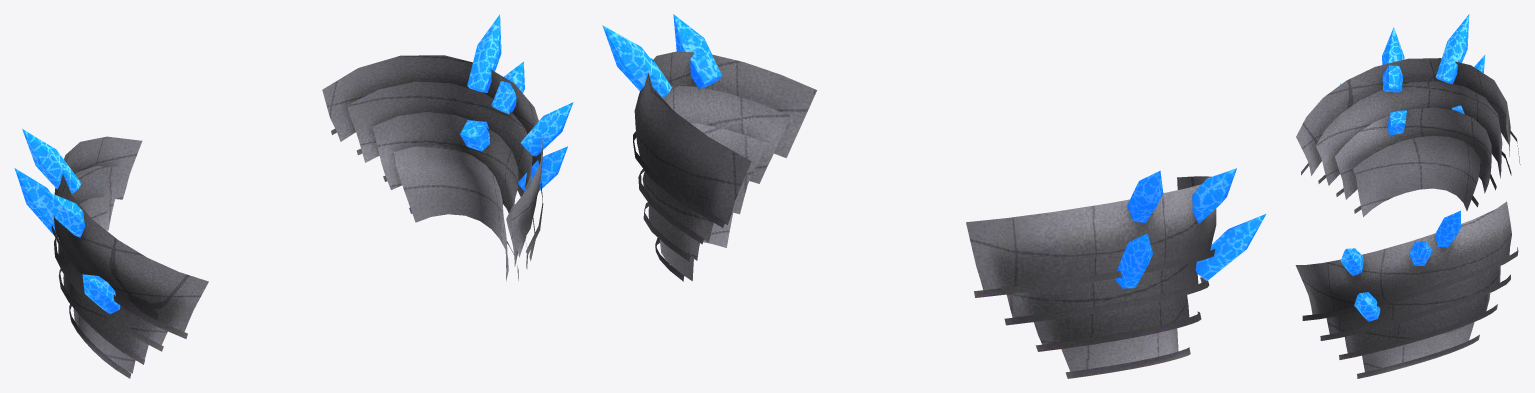
Rendered from Ombreiras_de_Energia_nivel75.glb.
3 views of the same model, side by side, from view 1: azimuth 30°, elevation 25°; view 2: azimuth 150°, elevation 25°; view 3: azimuth 270°, elevation 25° (orthographic). The views are drawn at different scales.
Visible parts, largest first — view 1: ombreiras_de_energia_nivel75; view 2: ombreiras_de_energia_nivel75; view 3: ombreiras_de_energia_nivel75.
Boxes of the visible parts, x1,y1,x2,y2 form: ombreiras_de_energia_nivel75: (14, 14, 573, 378); ombreiras_de_energia_nivel75: (602, 14, 1265, 378); ombreiras_de_energia_nivel75: (1295, 14, 1520, 378).
Bounding box in the file's own units: 0.7053 × 0.2886 × 0.3169.
1 material, 1 textured.
